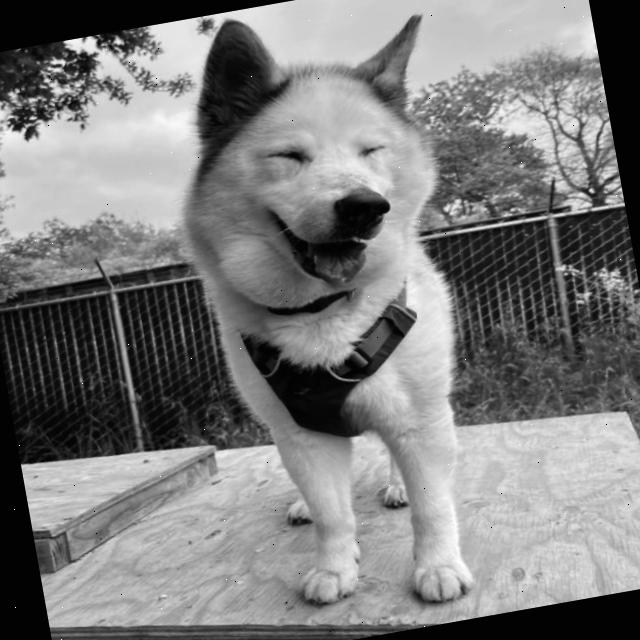siberian_husky_dog: (147, 0, 482, 334)
